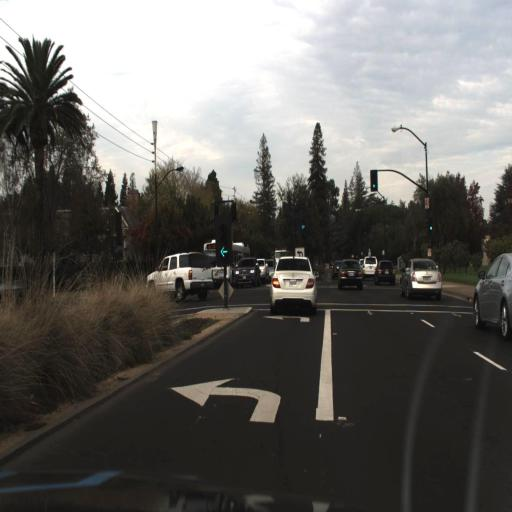car: (468, 247, 511, 340), (148, 253, 212, 301), (268, 253, 317, 307), (404, 259, 441, 298), (230, 255, 263, 292), (334, 256, 364, 291), (374, 256, 397, 288), (364, 253, 377, 279), (330, 258, 343, 283)
trafficLight: (370, 166, 379, 196), (300, 213, 306, 232)
trafficLight-Green: (428, 211, 434, 232)
trafficLight-GreenLeft: (217, 222, 231, 262)
truck: (203, 242, 254, 270)
